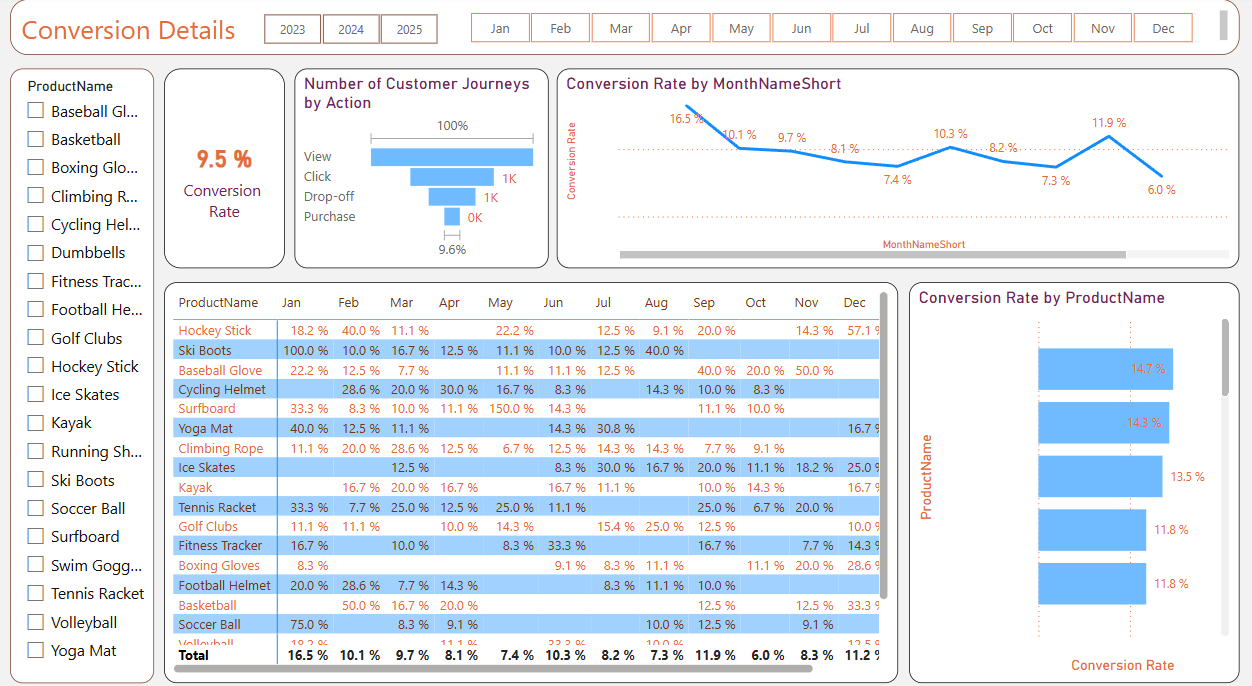

Layout of this report page (visuals, bound fields, positions):
{"tool":"powerbi","page":{"name":"Conversion Details","canvas":[1280,720],"ordinal":1},"visuals":[{"type":"textbox","box":[11.3,4.3,1255.4,56.7],"z":0},{"type":"slicer","fields":{"Values":["dim_products.ProductName"]},"box":[11.3,75.1,147.4,627.7],"z":1000},{"type":"card","fields":{"Values":["_Calculations.Conversion Rate"]},"box":[168.6,75.1,123.3,204],"z":2000},{"type":"lineChart","fields":{"Y":["_Calculations.Conversion Rate"],"Category":["Calendar.MonthNameShort"]},"box":[569.6,75.1,697.1,204],"z":3000},{"type":"clusteredBarChart","fields":{"Category":["dim_products.ProductName"],"Y":["_Calculations.Conversion Rate"]},"box":[929.5,293.3,337.2,409.5],"z":4000},{"type":"slicer","fields":{"Values":["Calendar.Year"]},"box":[245.1,12.8,226.7,43.9],"z":5000},{"type":"slicer","fields":{"Values":["Calendar.MonthNameShort"]},"box":[456.2,11.3,786.4,43.9],"z":6000},{"type":"pivotTable","fields":{"Rows":["dim_products.ProductName"],"Values":["_Calculations.Conversion Rate"],"Columns":["Calendar.MonthNameShort"]},"box":[168.6,293.3,749.5,409.5],"z":7000},{"type":"funnel","fields":{"Category":["fact_customer_journey.Action"],"Y":["_Calculations.Number of Customer Journeys"]},"box":[301.8,75.1,259.3,204],"z":8000}]}

Visuals, with their boxes in screenshot pixels (x1, y1, x2, y2), scaled from the page's 1280x720 canvas onto the 1252x686 screenshot:
textbox: <box>11,4,1239,58</box>
slicer - dim_products.ProductName: <box>11,72,155,670</box>
card - _Calculations.Conversion Rate: <box>165,72,286,266</box>
lineChart - _Calculations.Conversion Rate x Calendar.MonthNameShort: <box>557,72,1239,266</box>
clusteredBarChart - dim_products.ProductName x _Calculations.Conversion Rate: <box>909,279,1239,670</box>
slicer - Calendar.Year: <box>240,12,461,54</box>
slicer - Calendar.MonthNameShort: <box>446,11,1215,53</box>
pivotTable - dim_products.ProductName x _Calculations.Conversion Rate: <box>165,279,898,670</box>
funnel - fact_customer_journey.Action x _Calculations.Number of Customer Journeys: <box>295,72,549,266</box>
